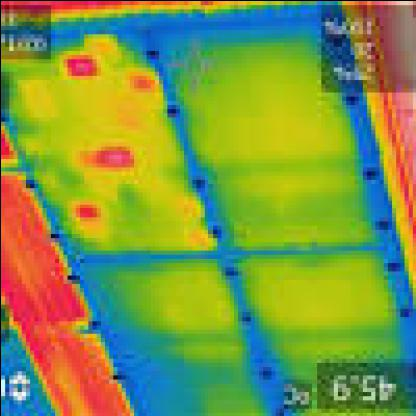Defects: (87, 146, 133, 170), (62, 50, 96, 75), (75, 199, 100, 220)
